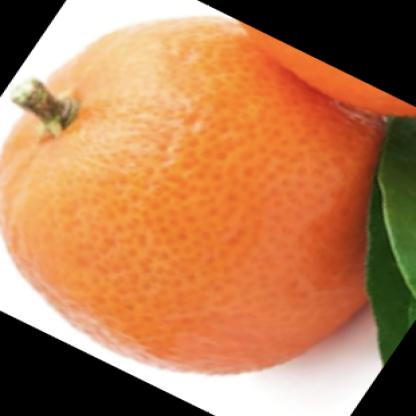fresh: (1, 17, 416, 382)
